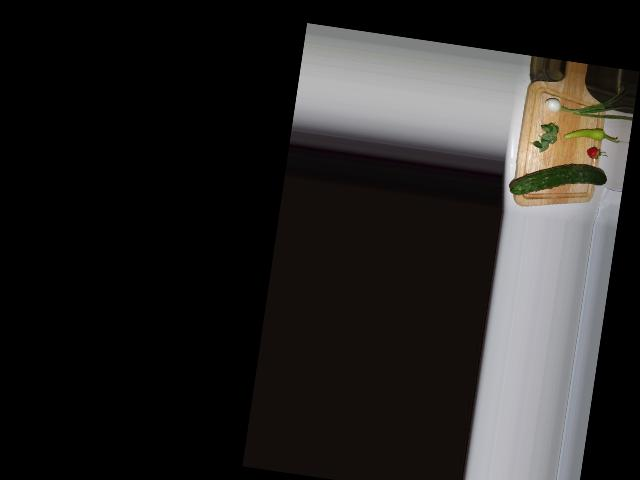cucumber: (508, 155, 607, 207)
